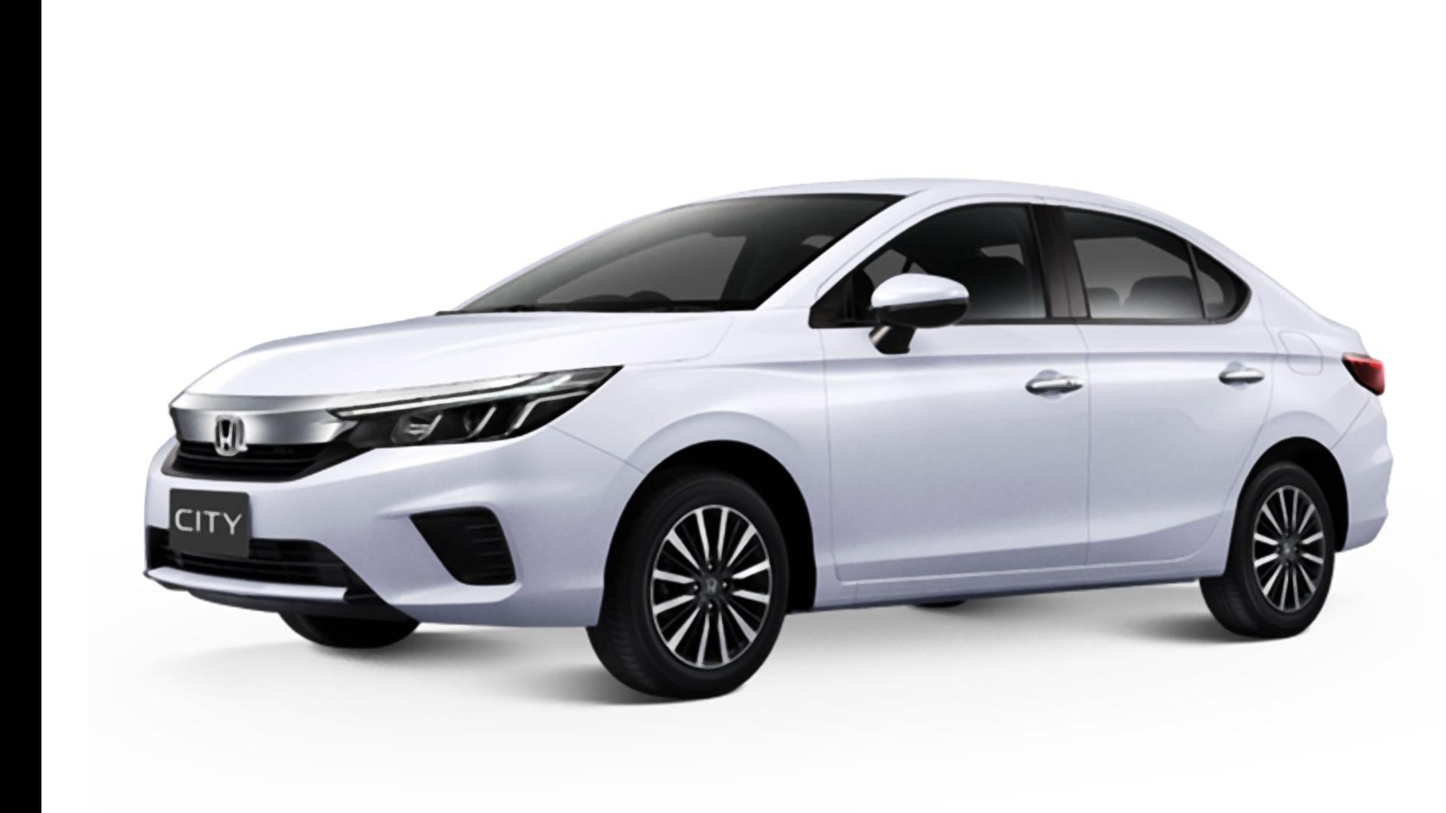Car hood: (163, 302, 745, 428)
Fender - -F-L-: (548, 293, 846, 615)
Fender - -R-L-: (1213, 270, 1370, 582)
Front bumper: (133, 433, 642, 642)
Headlight - -L-: (322, 352, 637, 459)
Passenger-s door - -F-L-: (826, 176, 1094, 585)
Passenger-s door - -R-L-: (1071, 193, 1293, 570)
Rear bumper: (1327, 393, 1421, 557)
Rear light - -L-: (1328, 342, 1395, 391)
Side bumper - -L-: (801, 530, 1249, 617)
Side mirror - -L-: (854, 251, 975, 377)
